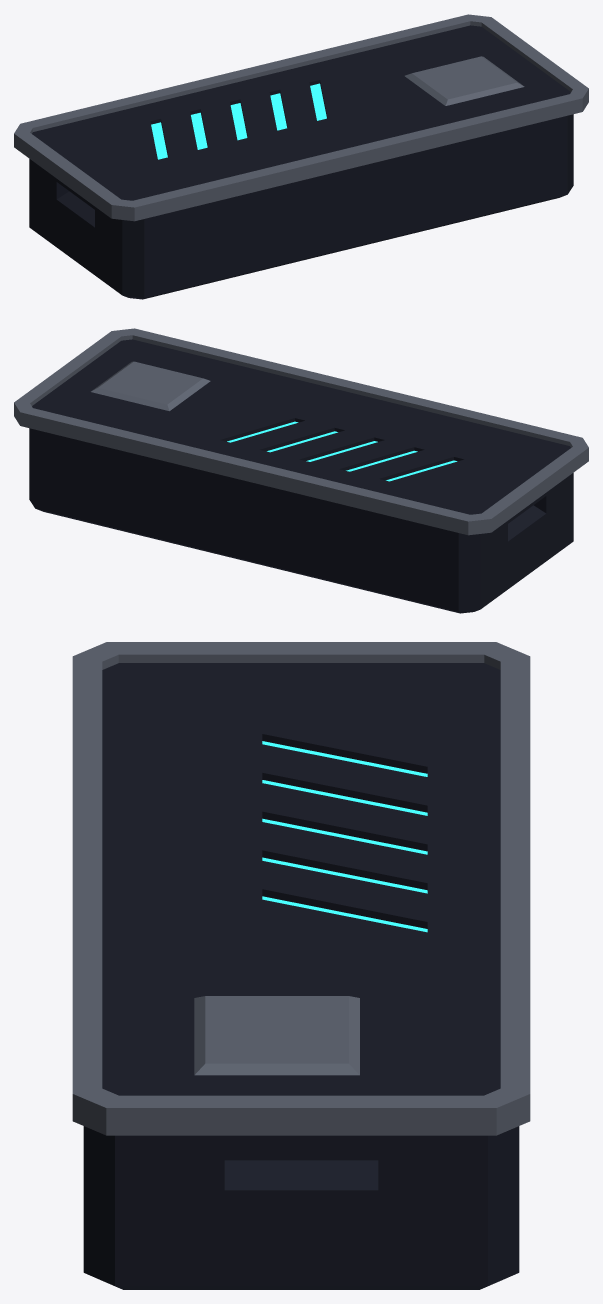
File: BoxB.fbx
The picture shows the model from 3 angles, top to bottom: view 1: azimuth 30°, elevation 25°; view 2: azimuth 150°, elevation 25°; view 3: azimuth 270°, elevation 25°; orthographic projection. The views are drawn at different scales.
Visible parts, largest first — view 1: BoxB; view 2: BoxB; view 3: BoxB.
Boxes of the visible parts, left/top/right/bottom form: BoxB: left=14, top=14, right=588, bottom=299; BoxB: left=14, top=328, right=588, bottom=613; BoxB: left=72, top=642, right=530, bottom=1289.
Size of the model in its own units: 191 by 38.7 by 79.19.
